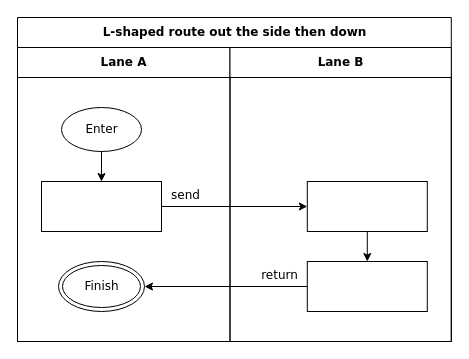
Image size: 469x359. Some labels were removed from this diagram. Each missing label, with the centre of its shape:
Prepare: [101,206]
Record it: [366,286]
Take: [366,206]
